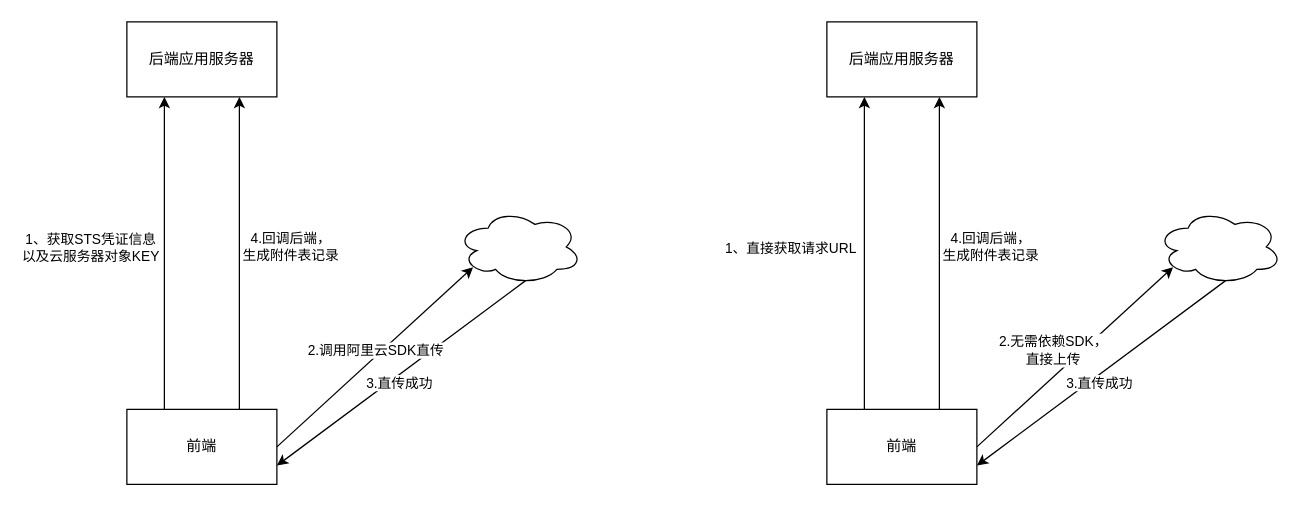
The diagram is 1304 pixels wide and 506 high, and some of its shapes have lost their labels. The centre of each missing label's shape, as x and y in pixels:
"MINIO" goes at pixel 1219 246.
"阿里云OSS" goes at pixel 519 246.
